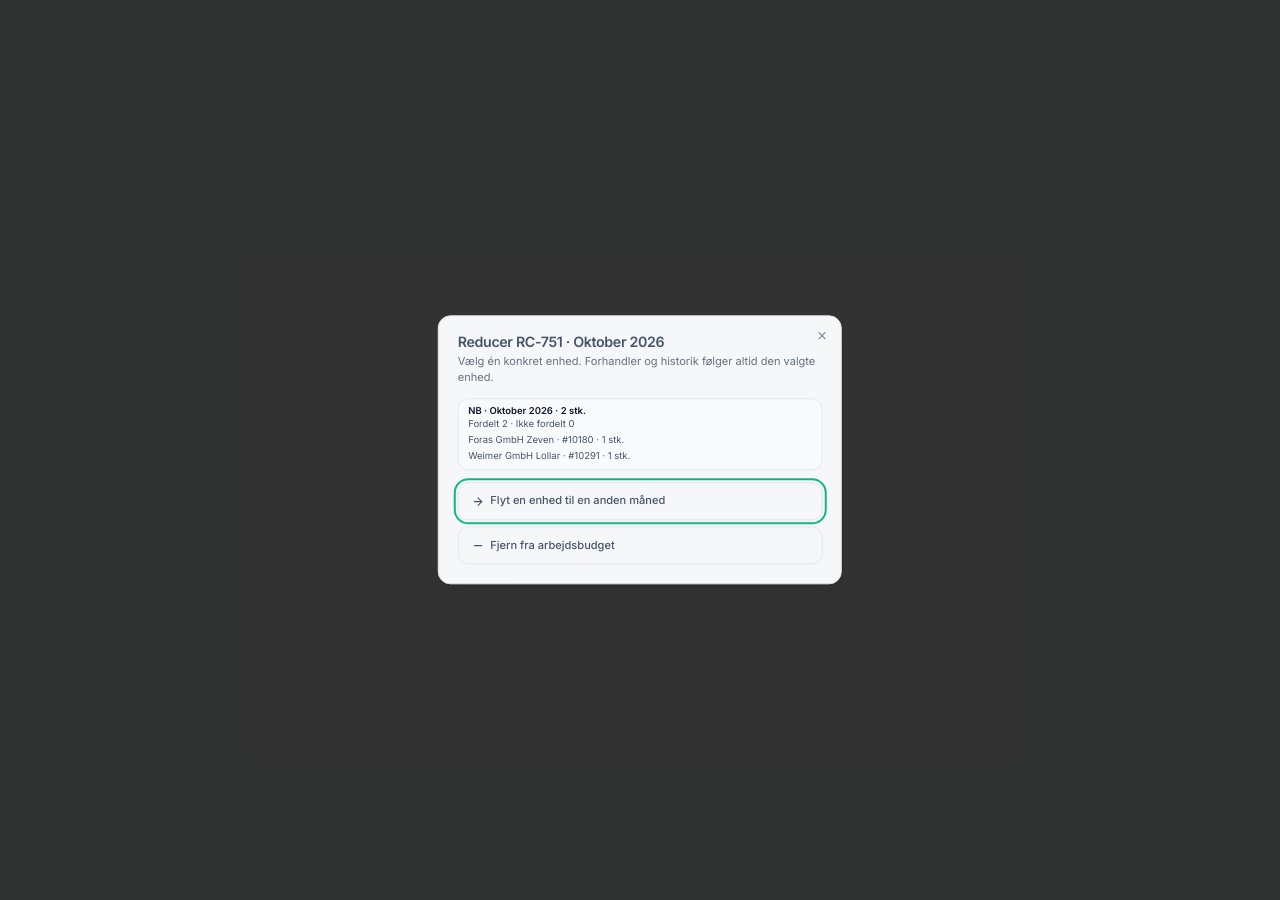
Test: Working Budget unit actions › resets to the safe action choices when the dialog is reopened
The image size is (1280, 900).
Later steps or results of the test are not shown.
Click the button "Flyt en enhed til en anden måned": click(640, 502) [458, 483, 822, 520]
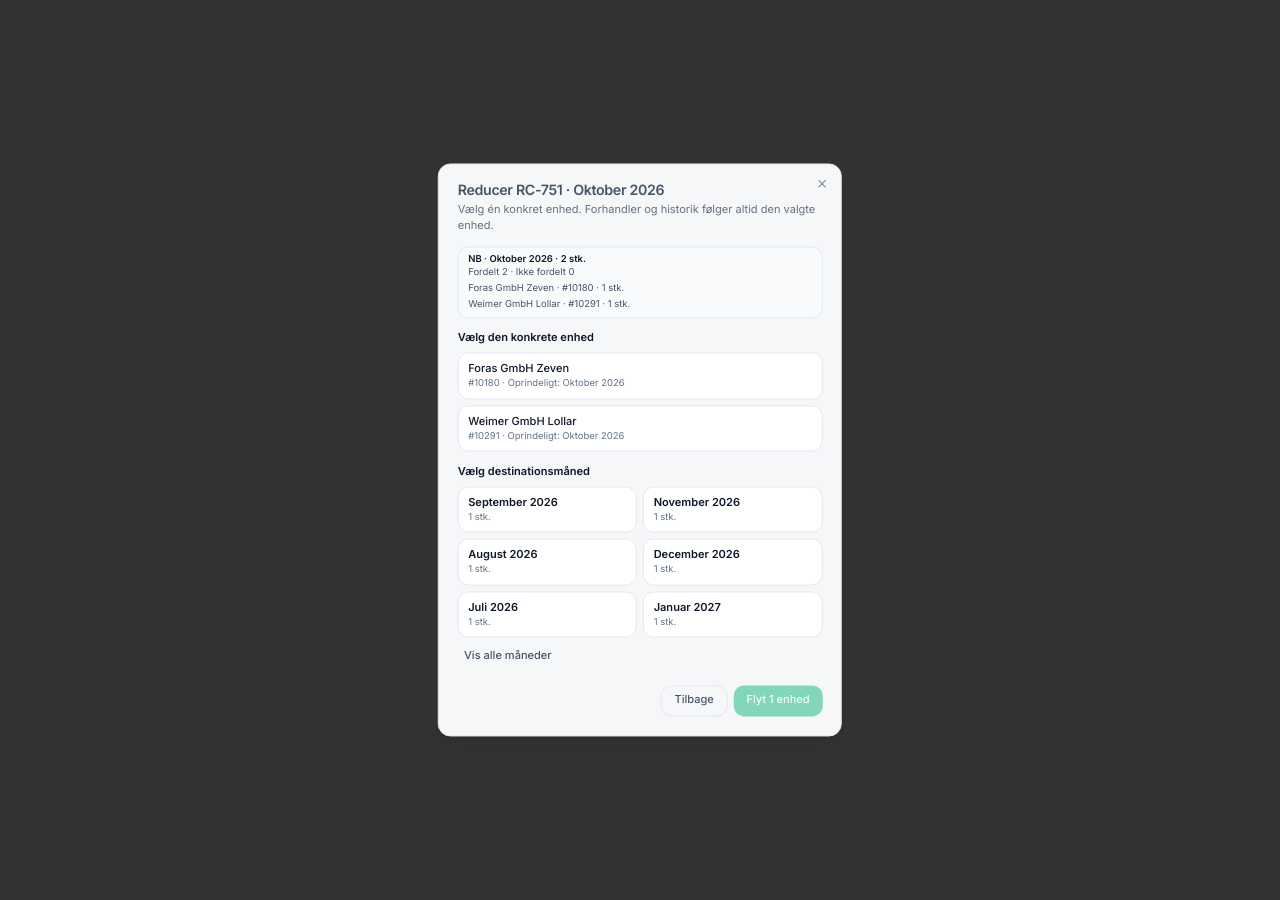
Check: the text "Vælg destinationsmåned" is shown, box [458, 464, 590, 478]
